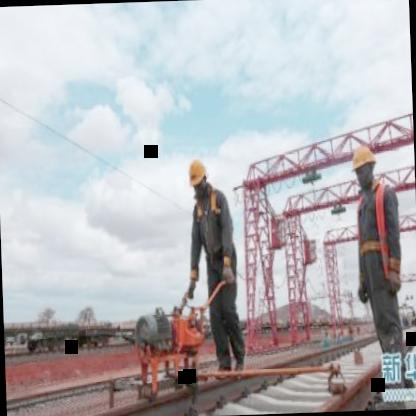helmet: (348, 136, 382, 192), (186, 158, 209, 200)
